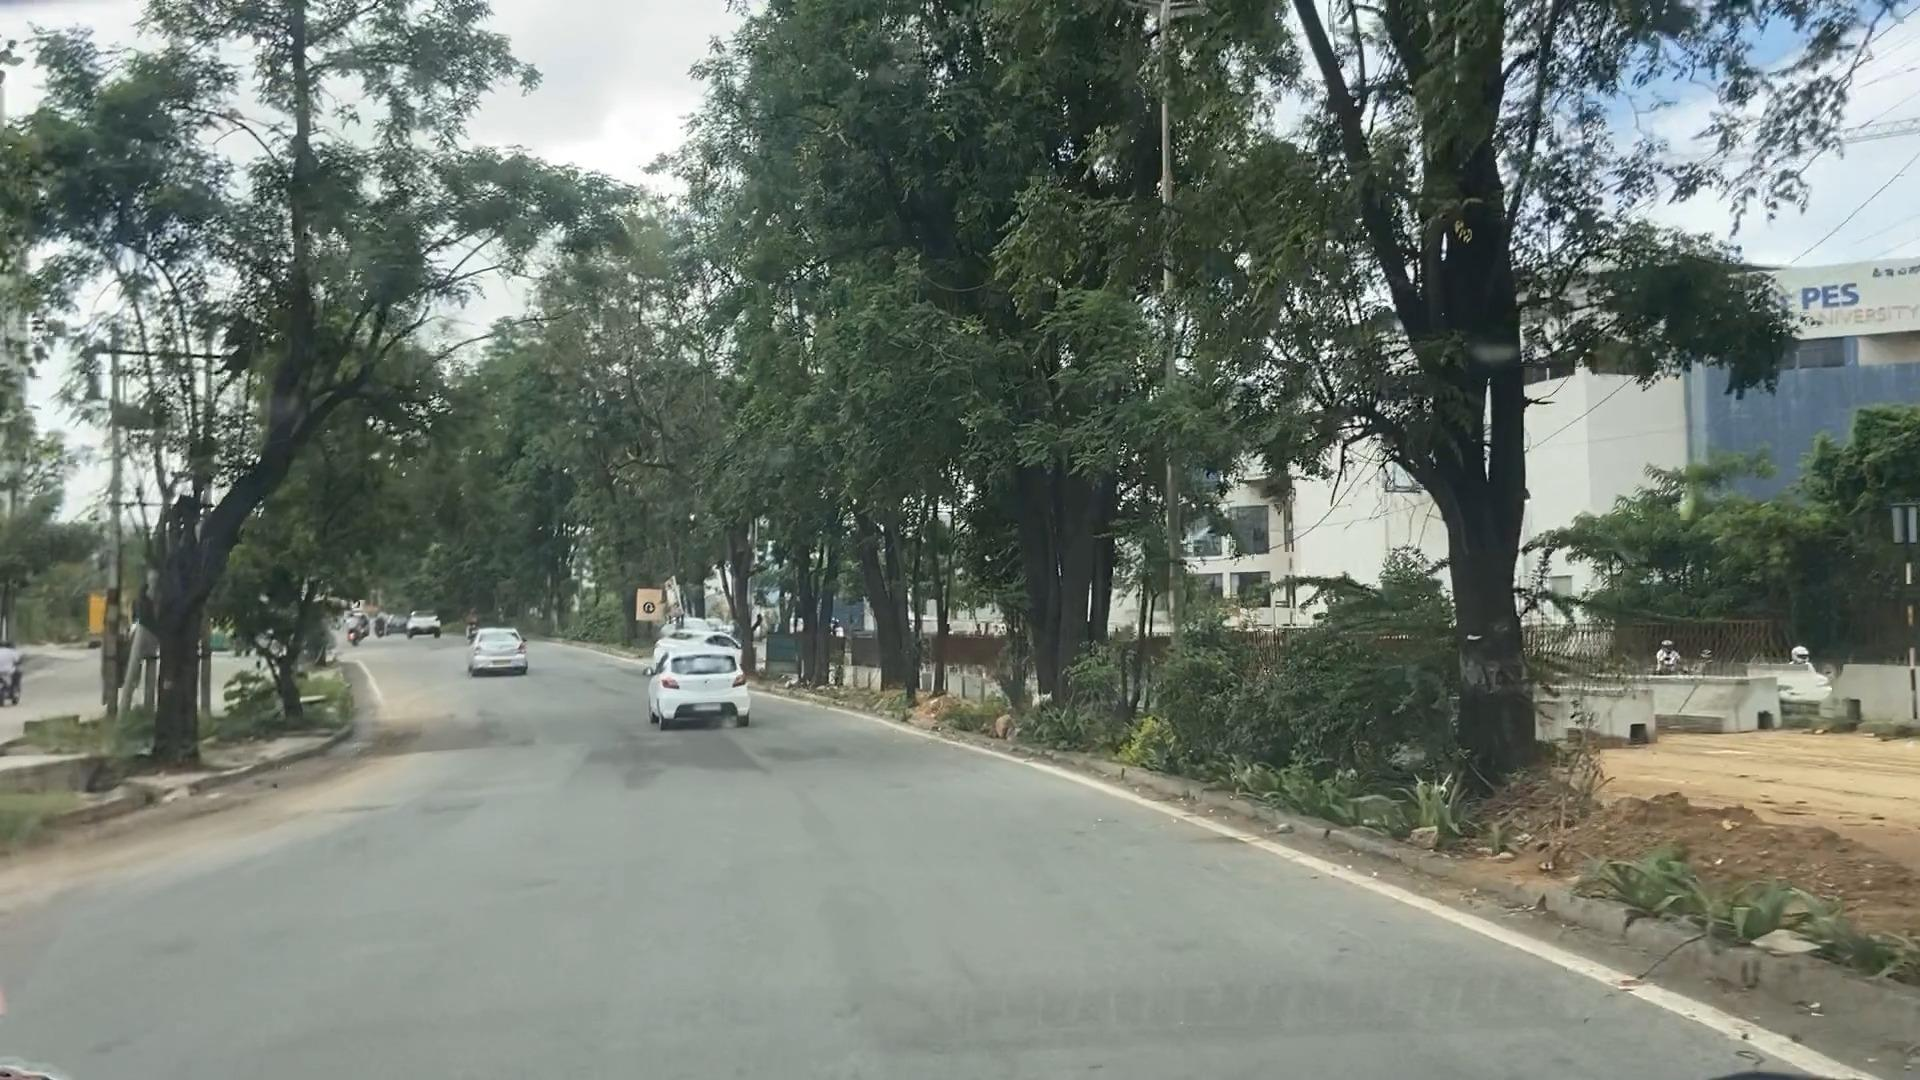LMV: (646, 650, 750, 724), (473, 628, 526, 674), (406, 611, 440, 640)
RoadDamages: (154, 775, 245, 833), (608, 735, 666, 793), (299, 786, 382, 822), (360, 723, 419, 771), (762, 742, 849, 775), (418, 704, 480, 749), (690, 732, 741, 785), (421, 790, 477, 833), (498, 720, 526, 746)
